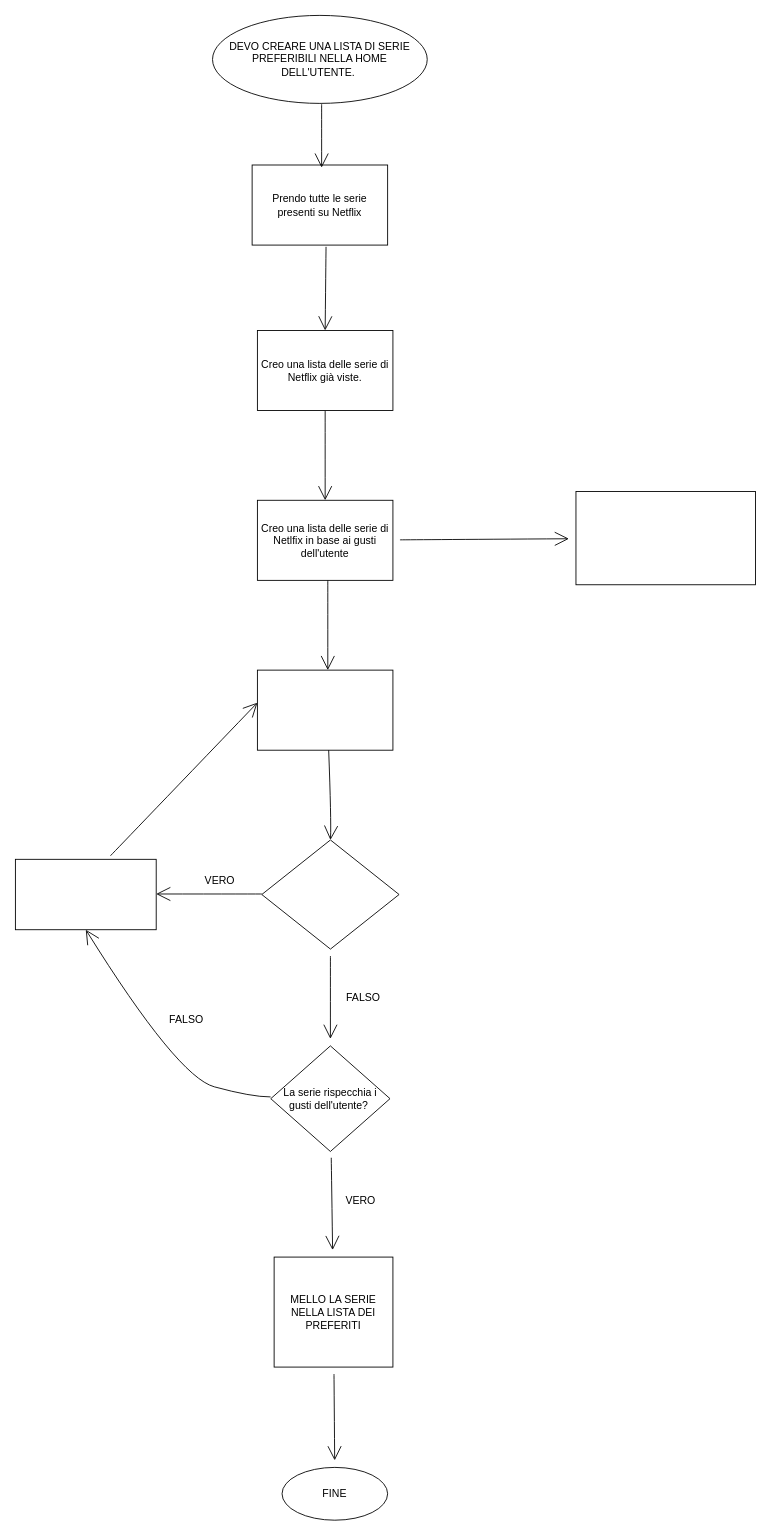
Some shapes in this 771 by 1536 pixel diagram are drawn without their labels. The box of each missing label's shape, as (x1, y1, x2, y2) in pixels:
La serie è nella lista delle serie già viste?: (261, 839, 399, 949)
Metto la lista nella home dell'utente: (575, 491, 755, 585)
Prendo una serie su Neftlix: (257, 669, 393, 750)
SCARTO LA SERIE: (15, 858, 156, 930)
